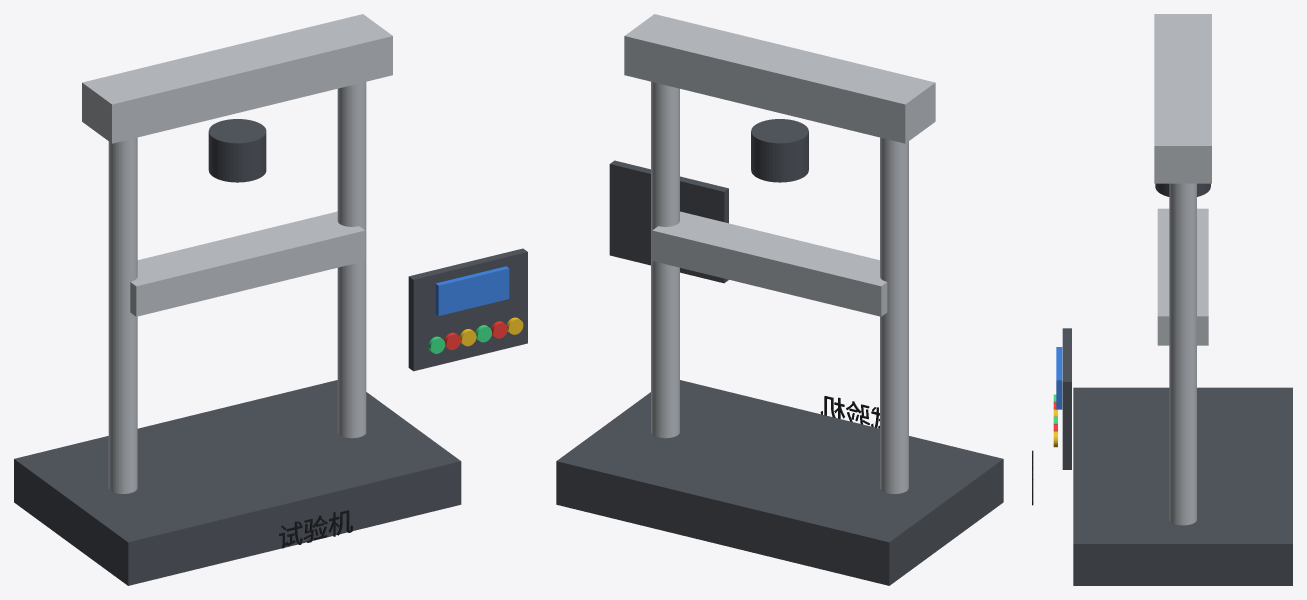
The model's file is asset_testing_machine.glb.
The picture shows the model from 3 angles, left to right: view 1: azimuth 30°, elevation 25°; view 2: azimuth 150°, elevation 25°; view 3: azimuth 270°, elevation 25°; orthographic projection. The views are drawn at different scales.
Parts seen in each view (by area): view 1: base, top_crosshead, moving_crosshead, left_column, right_column, test_panel, load_cell, test_screen, asset_label; view 2: base, top_crosshead, moving_crosshead, left_column, right_column, test_panel, load_cell, asset_label; view 3: base, top_crosshead, right_column, moving_crosshead, test_panel, test_screen.
Part boxes in pixels (x1,y1,x2,y2): base: (14,380,461,585); top_crosshead: (82,14,392,143); moving_crosshead: (130,211,365,316); left_column: (108,137,137,493); right_column: (337,82,366,438); test_panel: (408,248,527,371); load_cell: (208,119,266,182); test_screen: (435,266,509,315); asset_label: (279,510,352,548); base: (556,380,1003,585); top_crosshead: (624,14,935,143); moving_crosshead: (652,211,887,316); left_column: (880,137,908,493); right_column: (651,81,679,438); test_panel: (609,160,728,283); load_cell: (751,119,808,182); asset_label: (820,396,879,428); base: (1073,387,1292,585); top_crosshead: (1154,14,1211,183); right_column: (1169,183,1196,525); moving_crosshead: (1157,208,1208,345); test_panel: (1062,328,1071,469); test_screen: (1056,347,1062,409).
Size of the model in its own units: 1.9 by 2.04 by 1.13.
